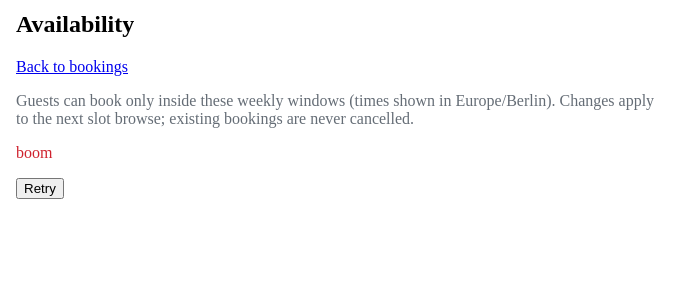
Test case: HostAvailabilityPage › shows a load error and retries
This screenshot has width=673, height=285.
expect the text "boom" is shown: met, box [16, 144, 52, 161]
Click the button "Retry": (40, 188) [16, 178, 64, 199]
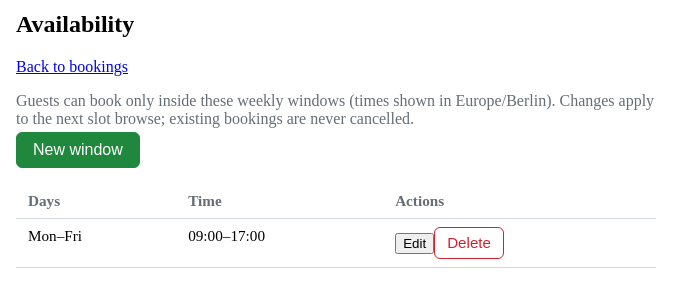
expect the text "Mon–Fri" is shown: met, box [16, 218, 176, 267]
